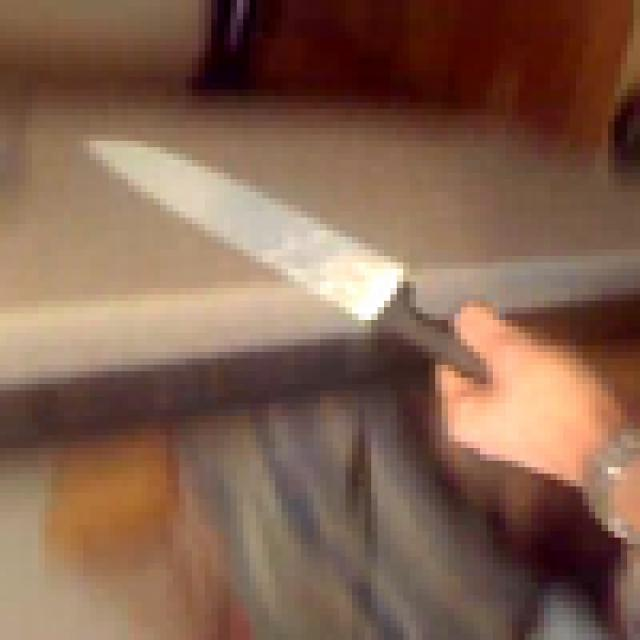faca: (64, 115, 531, 442)
